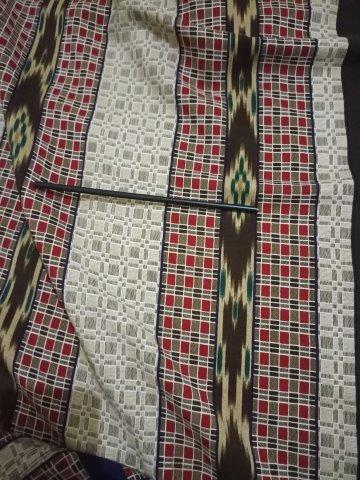sedotan: (36, 182, 258, 213)
